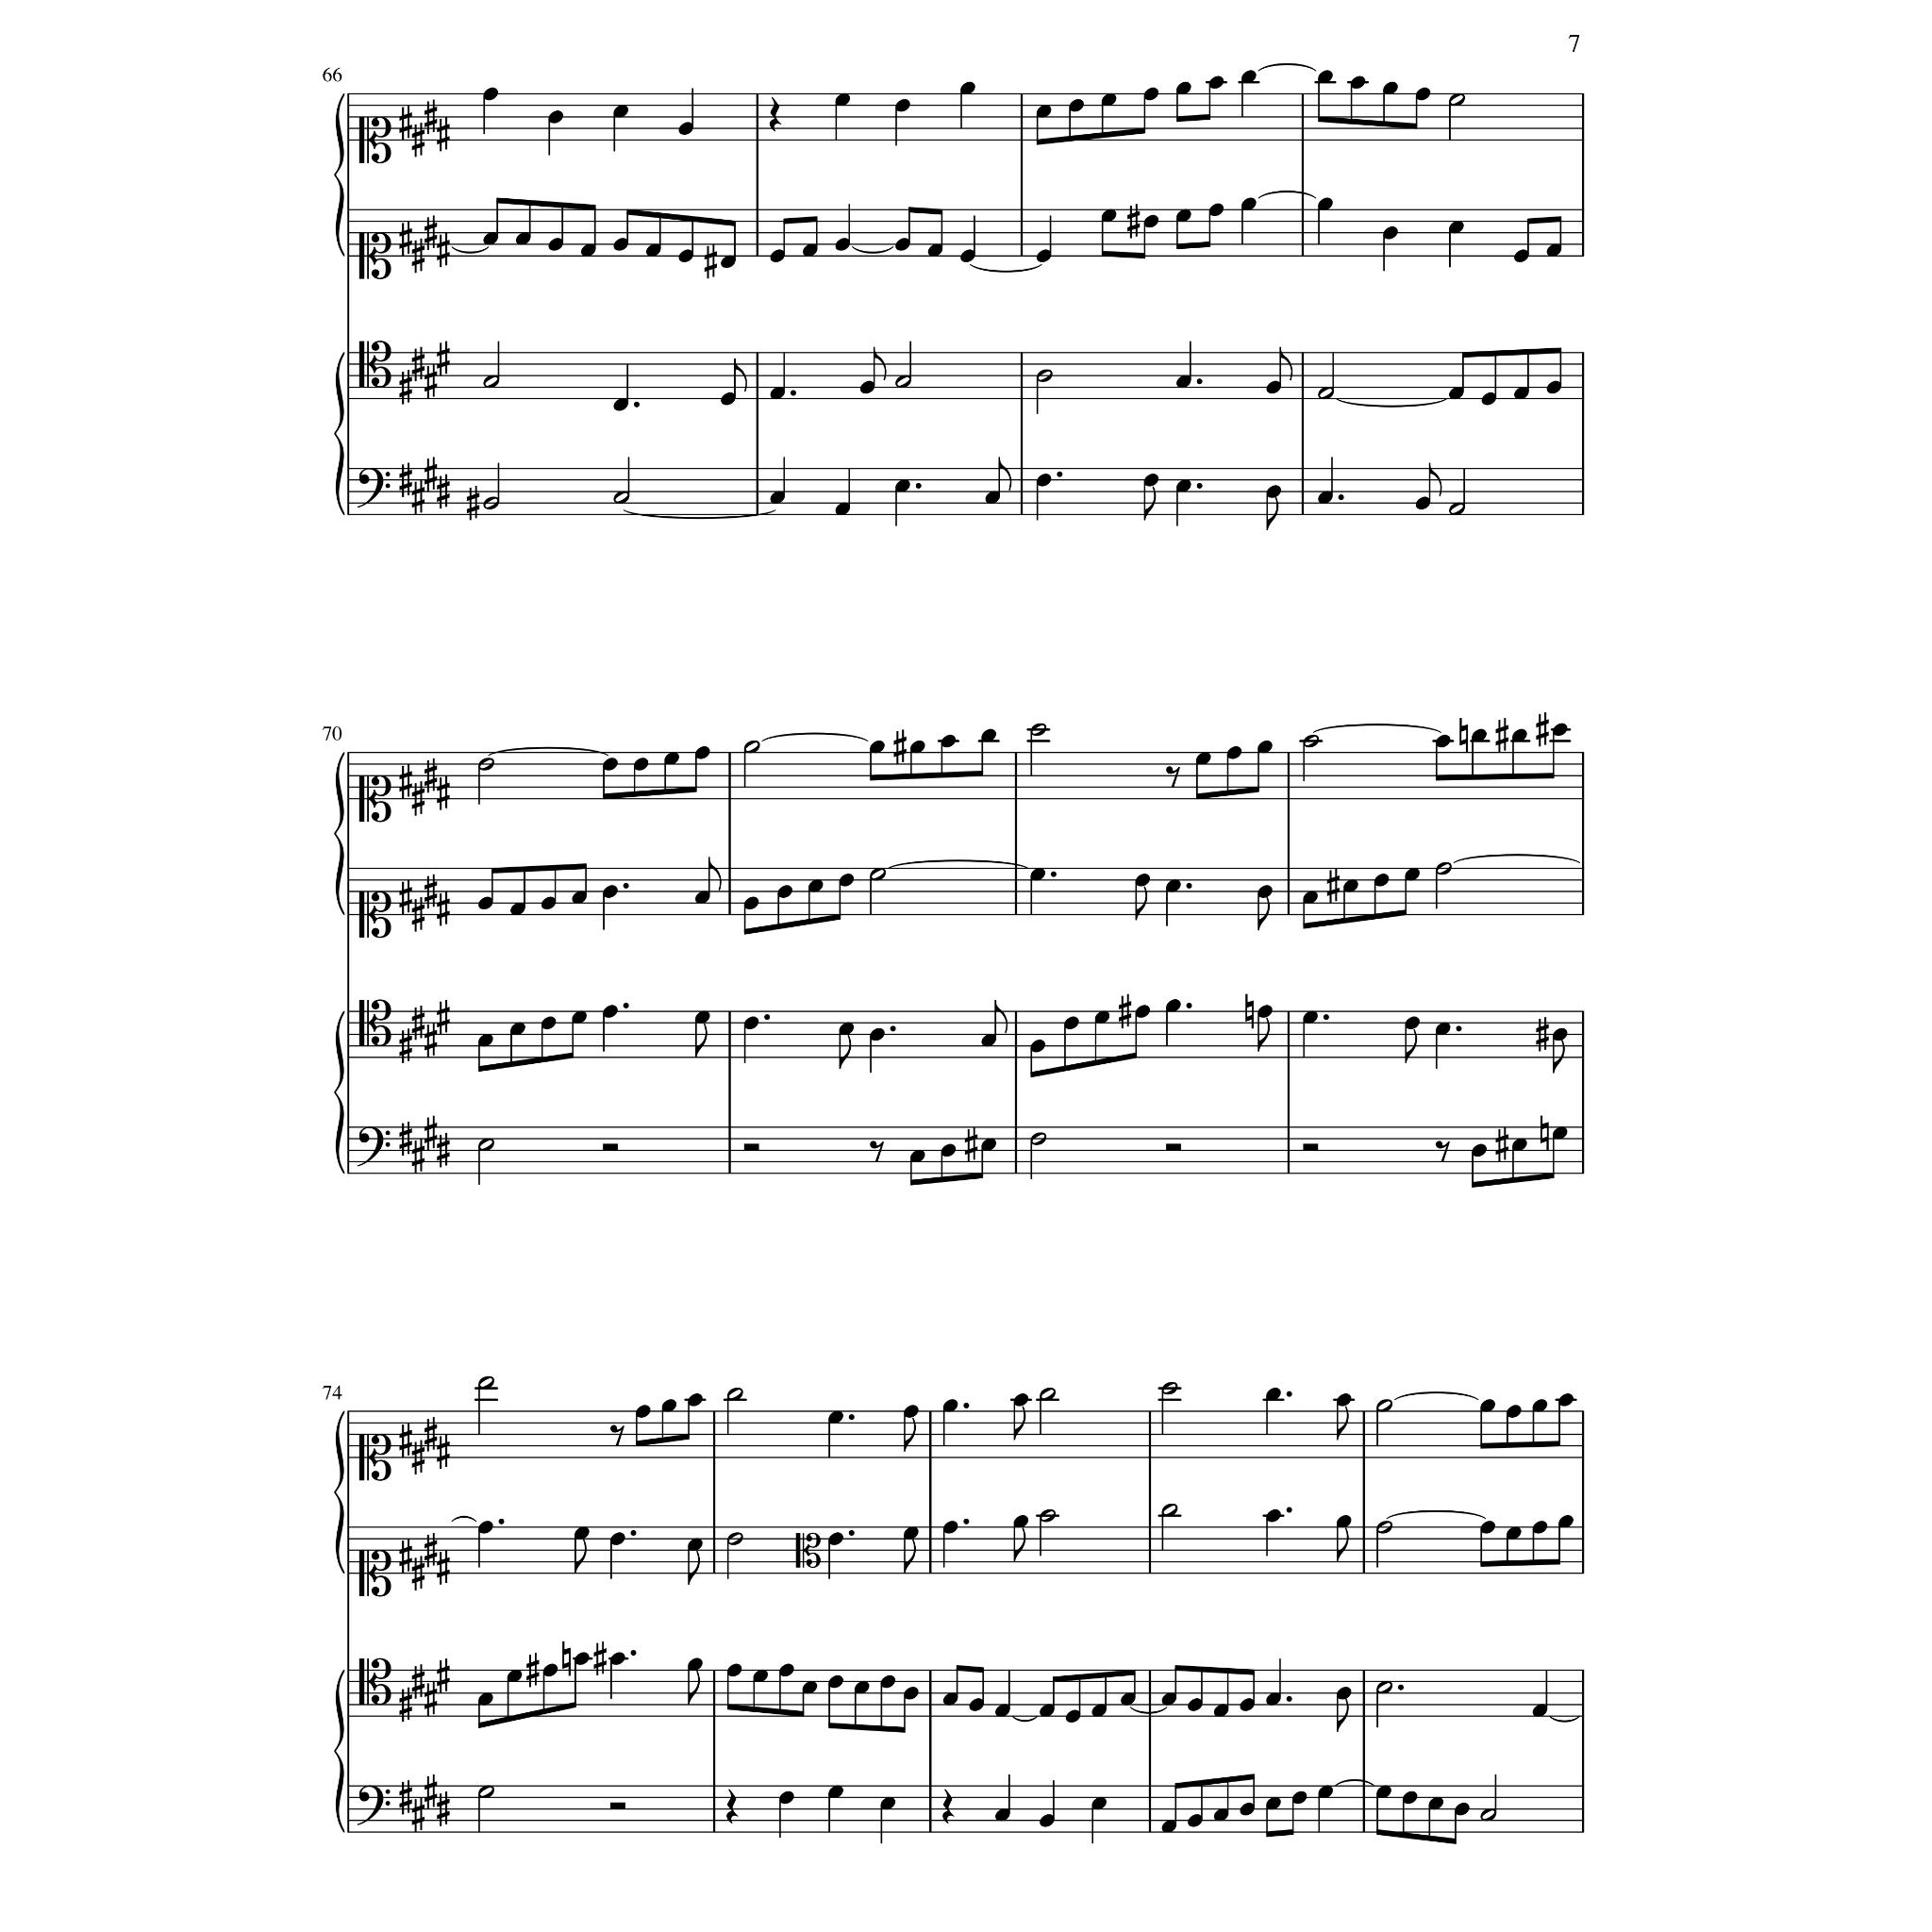brace: (333, 94, 345, 258), (333, 352, 345, 517), (333, 752, 345, 916), (333, 1010, 345, 1175), (333, 1410, 345, 1575), (333, 1670, 345, 1835)
fClef: (357, 467, 391, 508), (357, 1127, 391, 1168), (357, 1785, 391, 1826)
flag8thDown: (1267, 495, 1279, 531), (1258, 895, 1270, 931), (1258, 1017, 1270, 1053), (1136, 886, 1148, 922), (1552, 1039, 1564, 1074), (1405, 1028, 1417, 1063), (1014, 1405, 1026, 1440), (1336, 1405, 1348, 1440), (1336, 1697, 1348, 1732), (904, 1417, 916, 1453), (695, 1024, 708, 1058), (839, 1035, 851, 1069), (1014, 1527, 1026, 1560), (1336, 1527, 1348, 1560), (688, 1552, 701, 1585), (688, 1670, 701, 1704), (573, 1539, 586, 1573), (904, 1539, 916, 1573), (1145, 487, 1155, 520)
flag8thUp: (998, 458, 1012, 492), (708, 858, 722, 892), (1279, 347, 1292, 380), (1430, 464, 1442, 497), (734, 359, 747, 393), (874, 347, 886, 380), (994, 1000, 1007, 1033)
noteheadBlack: (858, 380, 876, 395), (1256, 885, 1274, 899), (602, 885, 619, 899), (602, 757, 619, 771), (686, 1537, 704, 1552), (1208, 203, 1224, 218), (1208, 76, 1224, 90), (1265, 380, 1281, 395), (1100, 209, 1116, 223), (1177, 209, 1192, 223), (1177, 81, 1192, 96), (1177, 375, 1192, 389), (1513, 249, 1529, 264), (1546, 380, 1562, 395), (1350, 76, 1366, 90), (1382, 81, 1398, 96), (1415, 497, 1431, 511), (612, 104, 628, 119), (770, 249, 786, 264), (678, 249, 694, 264), (720, 255, 736, 269), (515, 232, 531, 246), (548, 110, 564, 124), (483, 232, 499, 246), (961, 81, 977, 96), (961, 249, 977, 264), (1035, 104, 1051, 119), (1035, 249, 1051, 264), (835, 502, 851, 517), (1302, 890, 1318, 904), (1063, 1016, 1079, 1030), (1164, 879, 1180, 893), (1552, 1028, 1568, 1042), (1511, 729, 1527, 743), (1511, 1138, 1527, 1152), (1343, 879, 1359, 893), (1405, 1016, 1421, 1030), (1472, 729, 1488, 743), (1472, 1145, 1488, 1159), (1435, 734, 1451, 748), (1435, 1023, 1451, 1037), (571, 890, 587, 904), (743, 897, 759, 911), (743, 1016, 759, 1030), (694, 890, 709, 904), (510, 902, 525, 916), (510, 1023, 525, 1037), (540, 897, 556, 911), (540, 1016, 556, 1030), (478, 897, 494, 911), (478, 1033, 494, 1047), (939, 734, 955, 748), (869, 1028, 885, 1042), (939, 1145, 955, 1159), (980, 729, 996, 743), (980, 1033, 996, 1047), (980, 1138, 996, 1152), (777, 885, 793, 899), (839, 1023, 855, 1037), (809, 879, 824, 893), (1238, 1803, 1254, 1817), (1187, 1813, 1203, 1828), (1212, 1808, 1228, 1822), (1292, 1790, 1307, 1805), (1265, 1387, 1281, 1401), (1265, 1509, 1281, 1523), (1039, 1813, 1054, 1828), (1065, 1709, 1081, 1723), (1559, 1514, 1575, 1529), (1336, 1514, 1352, 1529), (1336, 1686, 1352, 1700), (1453, 1803, 1468, 1817), (1401, 1790, 1417, 1805), (1012, 1514, 1028, 1529), (725, 1663, 741, 1677), (541, 1663, 557, 1677), (904, 1686, 920, 1700), (994, 1808, 1010, 1822), (801, 1681, 817, 1695), (828, 1410, 844, 1424), (778, 1663, 794, 1677), (778, 1790, 794, 1805), (853, 1681, 869, 1695), (644, 244, 662, 257), (801, 244, 819, 257), (1256, 741, 1274, 754), (1256, 1005, 1274, 1017), (602, 1005, 619, 1017), (686, 1394, 704, 1407), (686, 1658, 704, 1670), (633, 757, 648, 771), (1240, 71, 1256, 83), (1240, 198, 1256, 211), (1318, 71, 1334, 83), (1318, 198, 1334, 211), (1318, 492, 1334, 504), (1265, 487, 1281, 499), (1069, 99, 1085, 111), (1100, 94, 1116, 106), (1177, 479, 1192, 492), (1143, 88, 1159, 101), (1143, 216, 1159, 228), (1143, 474, 1159, 487), (1513, 387, 1529, 400), (1546, 244, 1562, 257), (1481, 393, 1497, 405), (1447, 221, 1463, 234), (1447, 387, 1463, 400), (1382, 226, 1398, 239), (1415, 88, 1431, 101), (580, 244, 596, 257), (612, 239, 628, 251), (612, 398, 628, 410), (770, 387, 786, 400), (770, 492, 786, 504), (678, 122, 694, 134), (720, 393, 736, 405), (548, 239, 564, 251), (483, 88, 499, 101), (927, 244, 943, 257), (895, 99, 911, 111), (895, 479, 911, 492), (1035, 474, 1051, 487), (984, 492, 1000, 504), (895, 239, 911, 251), (835, 239, 851, 251), (835, 94, 851, 106), (1226, 747, 1242, 759), (1194, 752, 1210, 764), (1302, 1012, 1318, 1024), (1164, 1000, 1180, 1012), (1093, 1012, 1109, 1024), (1134, 874, 1150, 886), (1134, 1005, 1150, 1017), (1552, 724, 1568, 736), (1552, 1127, 1568, 1139), (1373, 874, 1389, 886), (1405, 869, 1421, 881), (571, 1012, 587, 1024), (694, 1012, 709, 1024), (663, 752, 679, 764), (694, 747, 709, 759), (909, 741, 925, 754), (909, 1150, 925, 1162), (869, 741, 885, 754), (1030, 869, 1046, 881), (1030, 1040, 1046, 1053), (839, 874, 855, 886), (1238, 1698, 1254, 1711), (1187, 1698, 1203, 1711), (1212, 1704, 1228, 1716), (1318, 1785, 1334, 1798), (1265, 1693, 1281, 1706), (1265, 1798, 1281, 1810), (1092, 1704, 1108, 1716), (1092, 1798, 1108, 1810), (1039, 1704, 1054, 1716), (1120, 1693, 1136, 1706), (1161, 1693, 1177, 1706), (1161, 1821, 1177, 1833), (1532, 1704, 1548, 1716), (1532, 1522, 1548, 1534), (1559, 1394, 1575, 1407), (1506, 1405, 1522, 1417), (1506, 1527, 1522, 1539), (1532, 1399, 1548, 1412), (1336, 1394, 1352, 1407), (1428, 1798, 1444, 1810), (1479, 1399, 1495, 1412), (1479, 1522, 1495, 1534), (662, 1399, 678, 1412), (635, 1405, 651, 1417), (609, 1532, 625, 1545), (609, 1652, 625, 1665), (478, 1522, 494, 1534), (478, 1693, 494, 1706), (573, 1527, 589, 1539), (573, 1652, 589, 1665), (506, 1670, 522, 1683), (941, 1399, 957, 1412), (941, 1522, 957, 1534), (941, 1693, 957, 1706), (904, 1405, 920, 1417), (879, 1675, 895, 1688), (879, 1798, 895, 1810), (904, 1527, 920, 1539), (994, 1704, 1010, 1716), (968, 1698, 984, 1711), (1012, 1394, 1028, 1407), (828, 1532, 844, 1545), (828, 1675, 844, 1688), (828, 1785, 844, 1798), (752, 1670, 768, 1683), (1376, 1785, 1391, 1798)
noteheadHalf: (1447, 502, 1465, 517), (483, 375, 501, 389), (483, 497, 501, 511), (893, 375, 911, 389), (1435, 862, 1453, 876), (1039, 1509, 1056, 1523), (1161, 1382, 1178, 1396), (1039, 1387, 1056, 1401), (1375, 1681, 1392, 1695), (1479, 1808, 1497, 1822), (1302, 734, 1318, 748), (478, 1138, 494, 1152), (1030, 1132, 1046, 1146), (727, 1387, 743, 1401), (1316, 387, 1334, 400), (1447, 94, 1465, 106), (1035, 370, 1053, 382), (743, 741, 761, 754), (869, 869, 886, 881), (1161, 1504, 1178, 1516), (1375, 1522, 1392, 1534), (1375, 1399, 1392, 1412), (614, 492, 630, 504), (478, 759, 494, 771), (1030, 724, 1046, 736), (727, 1532, 743, 1545), (478, 1376, 494, 1389), (478, 1785, 494, 1798)
rest8th: (609, 1424, 625, 1447), (1435, 1141, 1451, 1162), (869, 1141, 885, 1162), (1166, 766, 1180, 789)
restHalf: (602, 1143, 619, 1152), (1302, 1143, 1318, 1152), (1166, 1143, 1182, 1152), (743, 1143, 759, 1152), (610, 1801, 626, 1810)
restQuarter: (770, 96, 782, 133), (725, 1789, 738, 1824), (941, 1789, 954, 1824)
